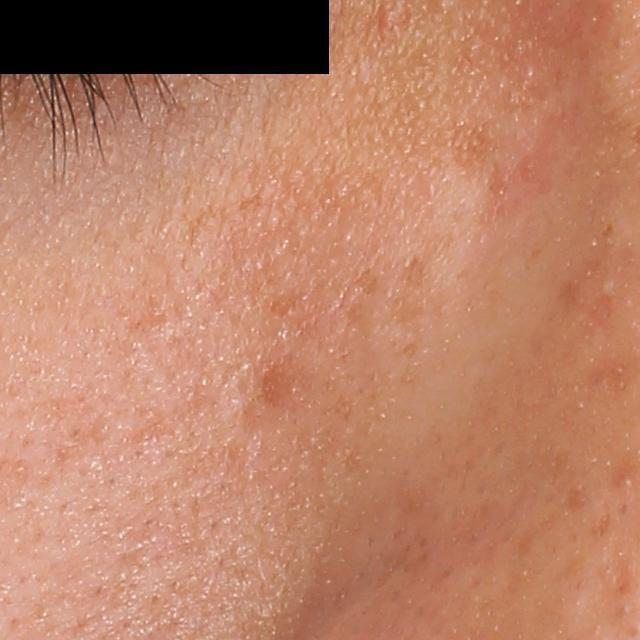melasma: (242, 348, 304, 450), (181, 190, 272, 254), (448, 122, 505, 179), (255, 282, 312, 326)
